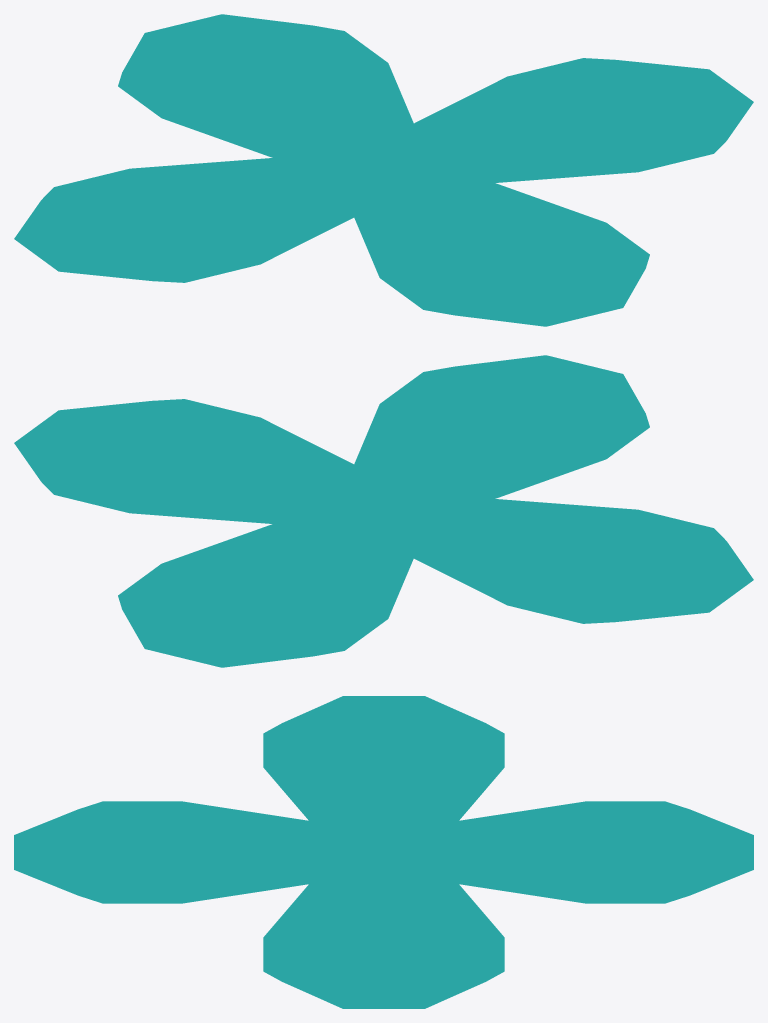
The model's file is frog_color_8.fbx.
3 views of the same model, one above another, from view 1: azimuth 30°, elevation 25°; view 2: azimuth 150°, elevation 25°; view 3: azimuth 270°, elevation 25° (orthographic). The views are drawn at different scales.
Parts seen in each view (by area): view 1: frog_color_8; view 2: frog_color_8; view 3: frog_color_8.
Boxes of the visible parts, box(x1,y1,x2,y2) form: frog_color_8: box(14, 14, 753, 326); frog_color_8: box(14, 355, 753, 667); frog_color_8: box(14, 696, 753, 1008).
Bounding box in the file's own units: 25.19 × 0 × 25.19.
